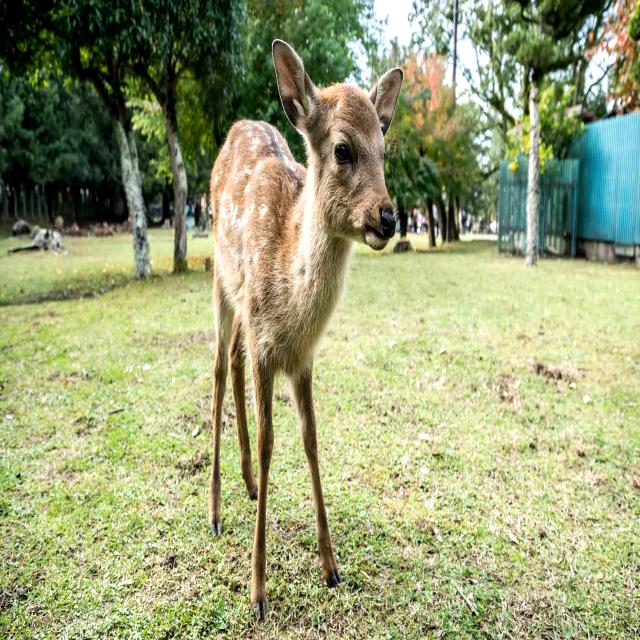deer: (198, 22, 400, 630)
